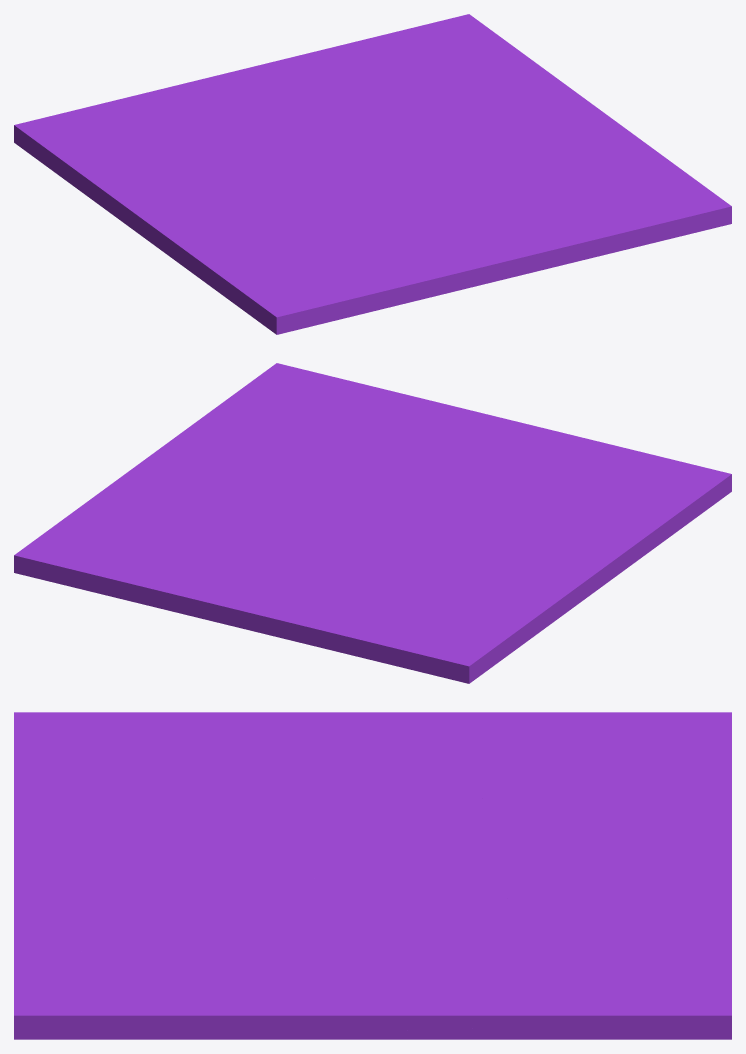
File: Platform_8_chunks.fbx
The picture shows the model from 3 angles, top to bottom: view 1: azimuth 30°, elevation 25°; view 2: azimuth 150°, elevation 25°; view 3: azimuth 270°, elevation 25°; orthographic projection. The views are drawn at different scales.
Parts seen in each view (by area): view 1: Platform_8_2, Platform_8_8, Platform_8_7, Platform_8_13, Platform_8_10, Platform_8_12, Platform_8_0, Platform_8_11, Platform_8_3, Platform_8_9; view 2: Platform_8_2, Platform_8_0, Platform_8_7, Platform_8_8, Platform_8_12, Platform_8_13, Platform_8_10, Platform_8_11, Platform_8_3, Platform_8_6, Platform_8_9; view 3: Platform_8_2, Platform_8_13, Platform_8_12, Platform_8_7, Platform_8_8, Platform_8_0, Platform_8_10, Platform_8_11, Platform_8_3, Platform_8_17, Platform_8_6, Platform_8_16 (+2 smaller).
Part boxes in pixels (x1=…): Platform_8_2: x1=14, y1=89, x2=254, y2=240; Platform_8_8: x1=210, y1=232, x2=525, y2=334; Platform_8_7: x1=148, y1=167, x2=398, y2=285; Platform_8_13: x1=509, y1=113, x2=731, y2=229; Platform_8_10: x1=396, y1=173, x2=672, y2=274; Platform_8_12: x1=381, y1=14, x2=604, y2=124; Platform_8_0: x1=161, y1=33, x2=389, y2=127; Platform_8_11: x1=367, y1=83, x2=525, y2=193; Platform_8_3: x1=206, y1=122, x2=373, y2=208; Platform_8_9: x1=350, y1=218, x2=422, y2=236; Platform_8_2: x1=319, y1=554, x2=603, y2=683; Platform_8_0: x1=88, y1=536, x2=354, y2=647; Platform_8_7: x1=375, y1=480, x2=666, y2=585; Platform_8_8: x1=485, y1=414, x2=731, y2=539; Platform_8_12: x1=14, y1=456, x2=216, y2=581; Platform_8_13: x1=150, y1=363, x2=361, y2=475; Platform_8_10: x1=342, y1=379, x2=487, y2=501; Platform_8_11: x1=199, y1=451, x2=378, y2=552; Platform_8_3: x1=294, y1=516, x2=543, y2=576; Platform_8_6: x1=14, y1=564, x2=92, y2=591; Platform_8_9: x1=469, y1=463, x2=529, y2=487; Platform_8_2: x1=365, y1=712, x2=731, y2=830; Platform_8_13: x1=14, y1=913, x2=369, y2=1027; Platform_8_12: x1=361, y1=924, x2=731, y2=1027; Platform_8_7: x1=190, y1=712, x2=372, y2=871; Platform_8_8: x1=14, y1=712, x2=191, y2=874; Platform_8_0: x1=499, y1=810, x2=731, y2=962; Platform_8_10: x1=14, y1=840, x2=334, y2=971; Platform_8_11: x1=203, y1=860, x2=597, y2=963; Platform_8_3: x1=367, y1=751, x2=557, y2=890; Platform_8_17: x1=14, y1=1027, x2=275, y2=1039; Platform_8_6: x1=492, y1=1027, x2=731, y2=1039; Platform_8_16: x1=272, y1=1028, x2=496, y2=1039.
Bounding box in the file's own units: 810 × 29.87 × 810.
